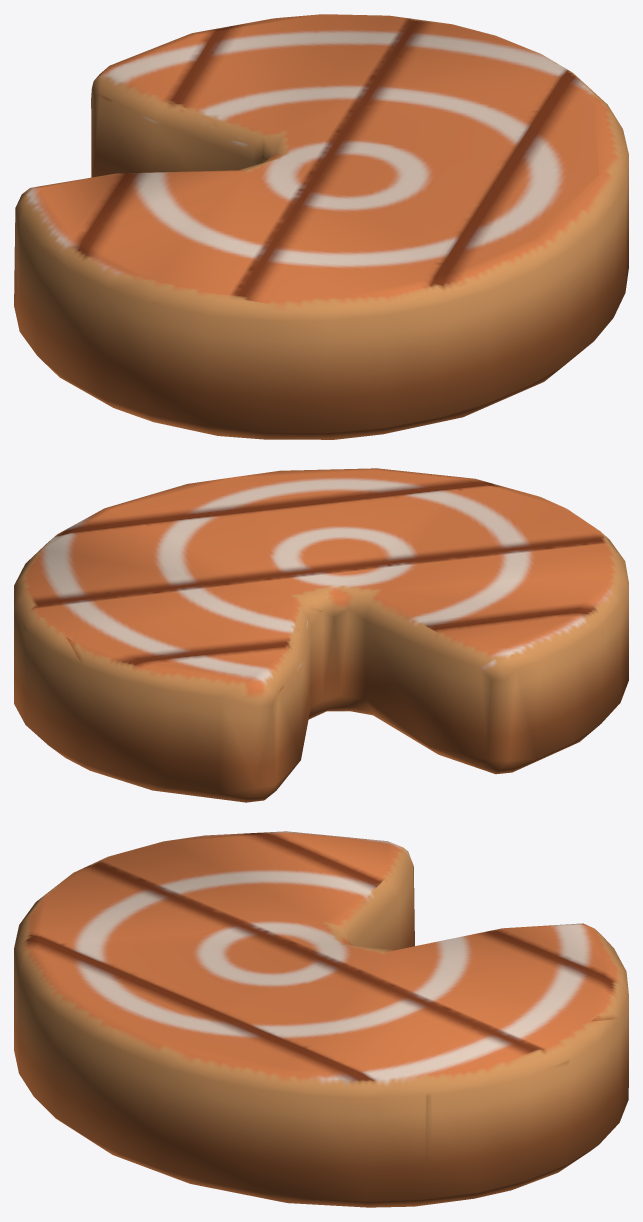
File: item_fish_cooked.glb
3 renders of one model, top to bottom at view 1: azimuth 30°, elevation 25°; view 2: azimuth 150°, elevation 25°; view 3: azimuth 270°, elevation 25°, orthographic. The views are drawn at different scales.
Parts seen in each view (by area): view 1: steak; view 2: steak; view 3: steak.
Part boxes in pixels (x1,y1,x2,y2): steak: (14,14,628,439); steak: (14,468,628,802); steak: (14,831,628,1207).
Size of the model in its own units: 0.7197 by 0.1702 by 0.7197.
1 material, 1 textured.
